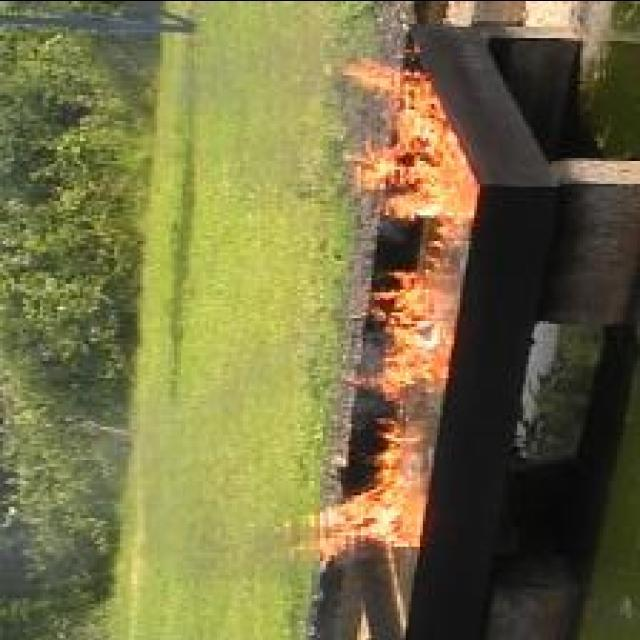Fire: (344, 57, 464, 243), (277, 416, 420, 562), (337, 268, 434, 401)
